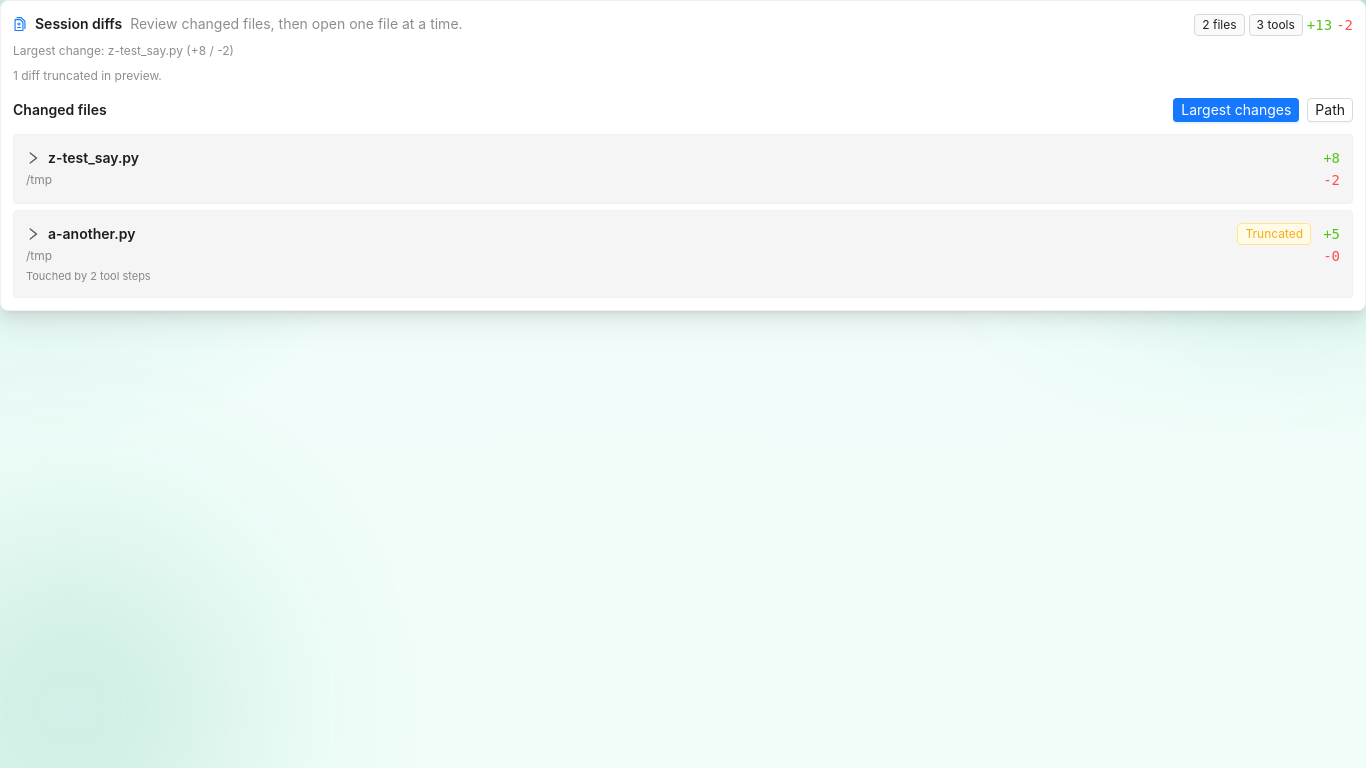
Scenario: ActiveToolMessageCard › opens a wider detail drawer and highlights the selected file row
Click the button with test id "session-diff-file-row" that starts with "a-another.py": point(92, 233) [13,210,1353,298]
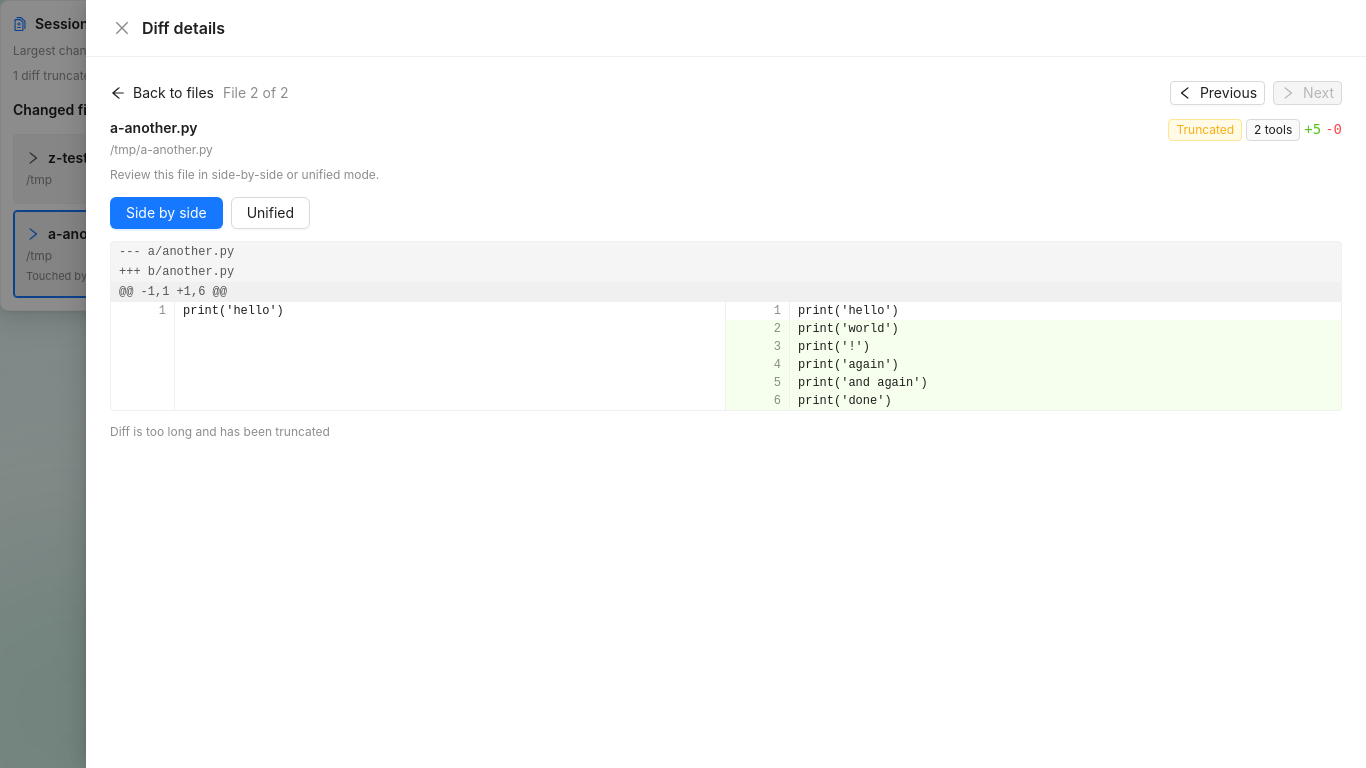
Expected: the text "Diff details" is shown, [142,18,225,38]
Expected: the element with test id "session-diff-detail-view" is shown, [110,81,1342,442]
Expected: the text with test id "session-diff-position" reads "File 2 of 2", [223,84,289,101]
